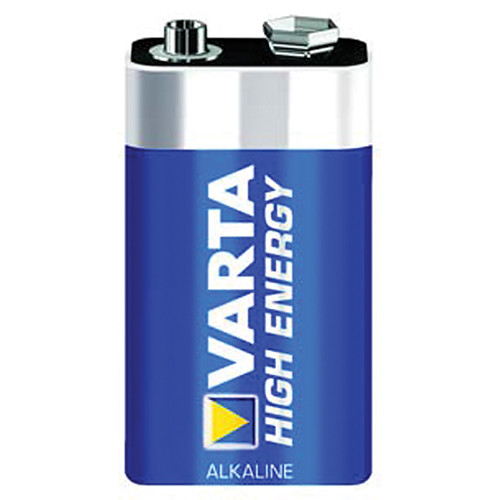9V: (118, 9, 381, 492)
